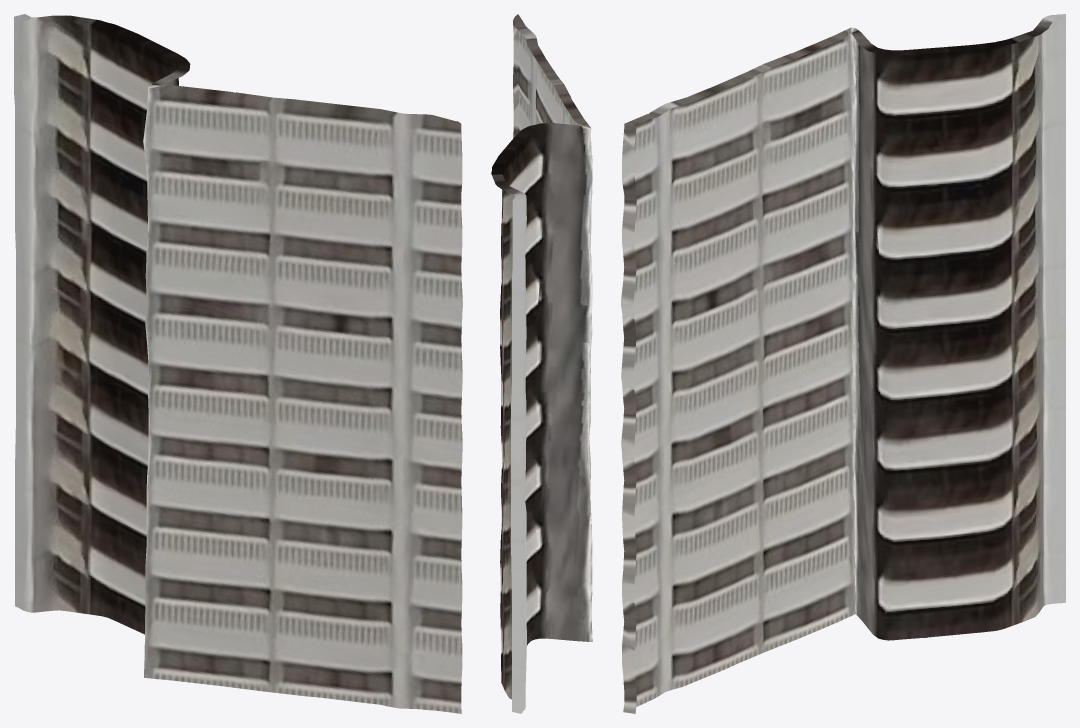
Rendered from z20-167784-405226-h1-yup-uvflip-v3-world.glb.
3 renders of one model, left to right at view 1: azimuth 30°, elevation 25°; view 2: azimuth 150°, elevation 25°; view 3: azimuth 270°, elevation 25°, orthographic. The views are drawn at different scales.
Bounding box in the file's own units: 10.12 × 25.36 × 17.32.
Materials: 1 (1 with a texture image).
